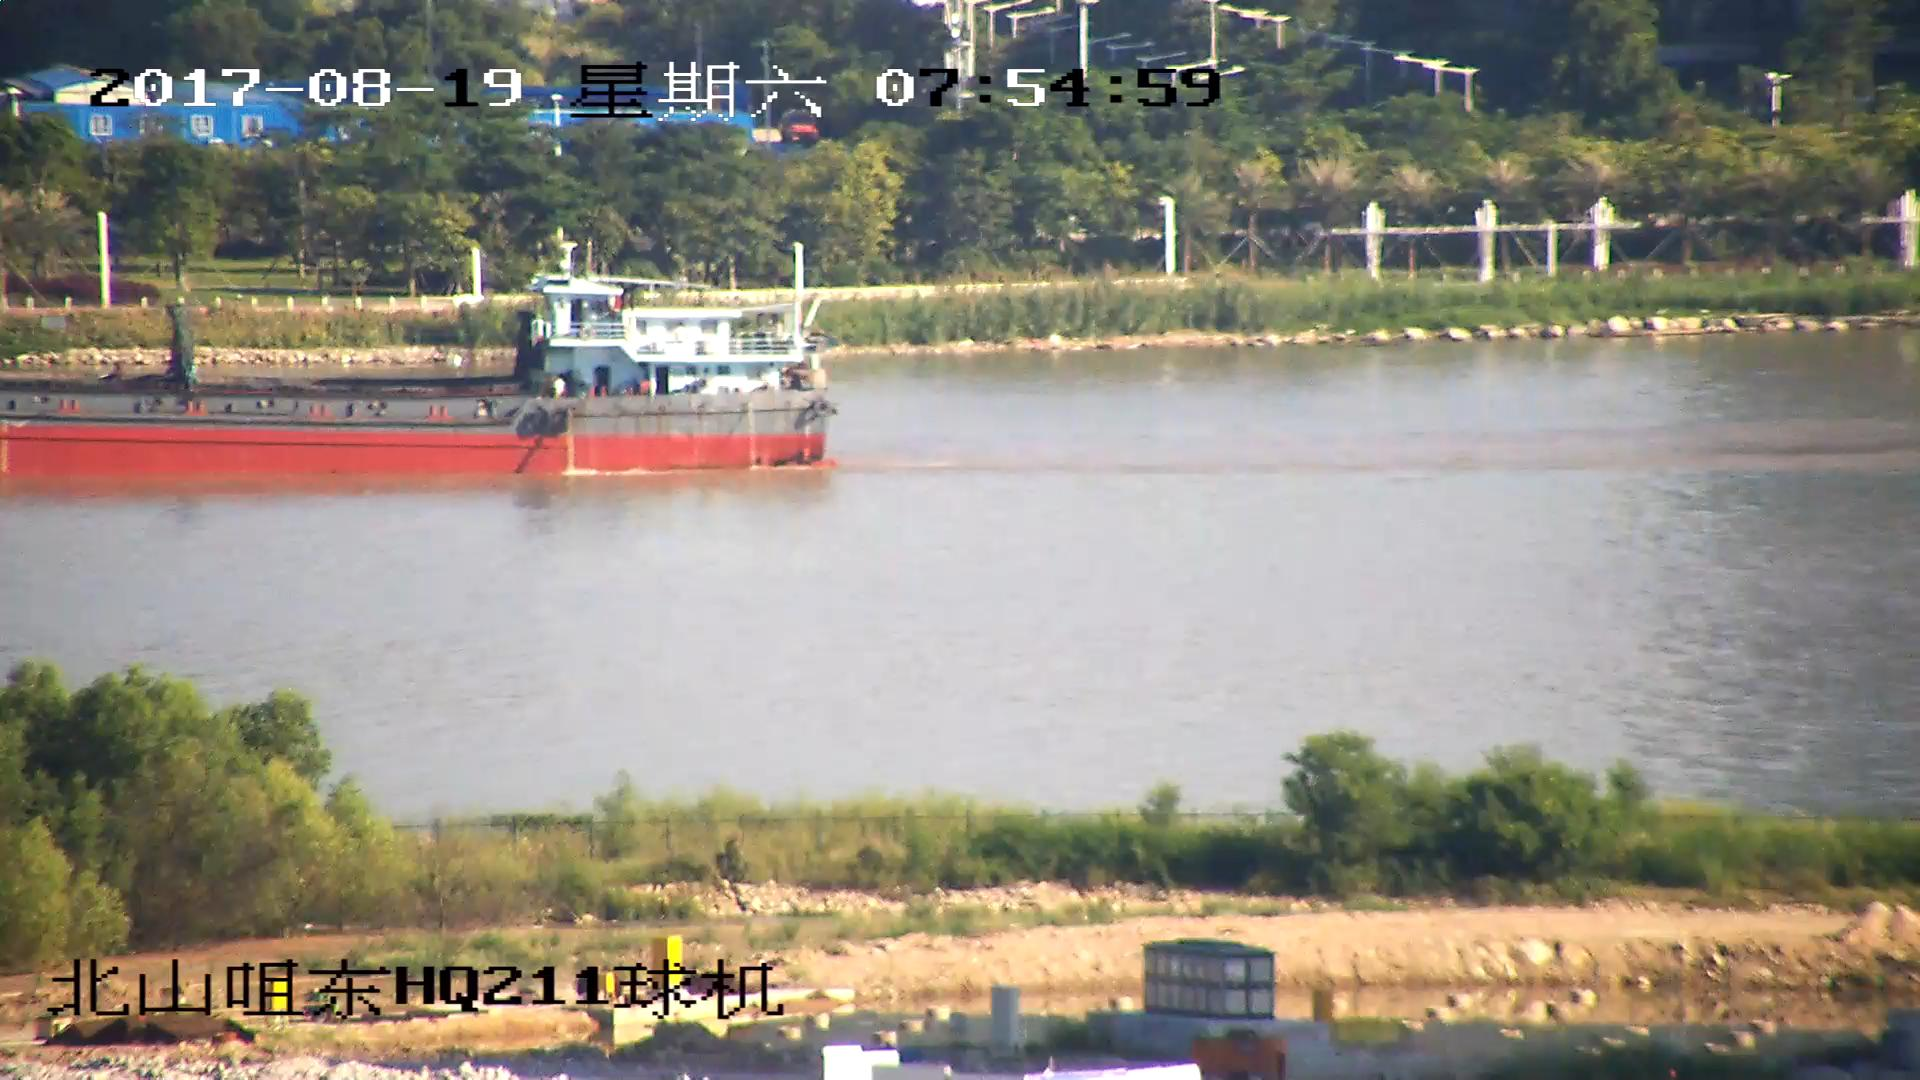bulk cargo carrier: (1, 251, 837, 474)
